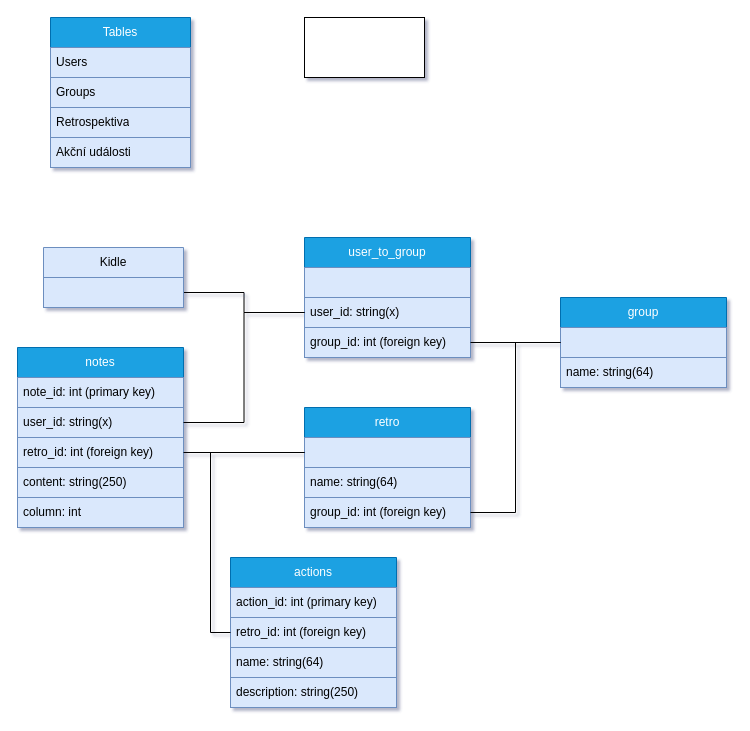
Image size: 750x731. Some labels were removed from this diagram. The centre of each missing label's shape, as x and y in pixels:
Databáze: (364,47)
group_id: int (primary key): (643,342)
retro_id: int (primary key): (387,452)
user_id: string(s): (113,292)
utg_id: int (primary): (387,282)
